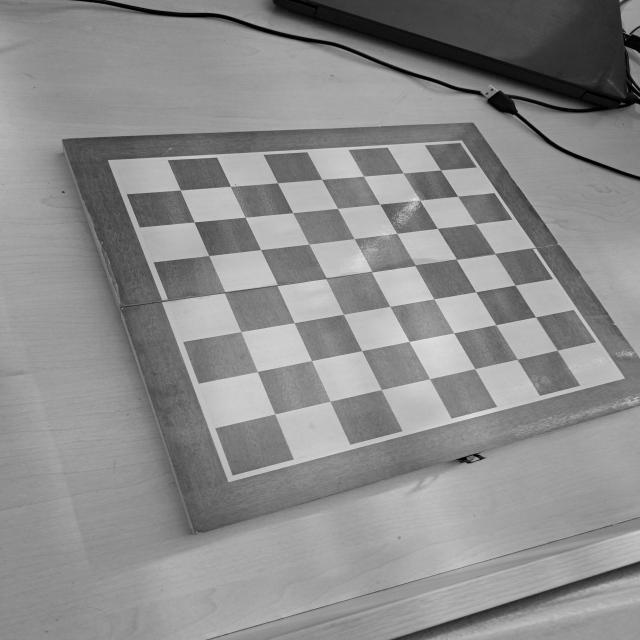chess-table-corners: (218, 466, 248, 486), (102, 154, 130, 174), (606, 368, 634, 386), (446, 136, 471, 154)
